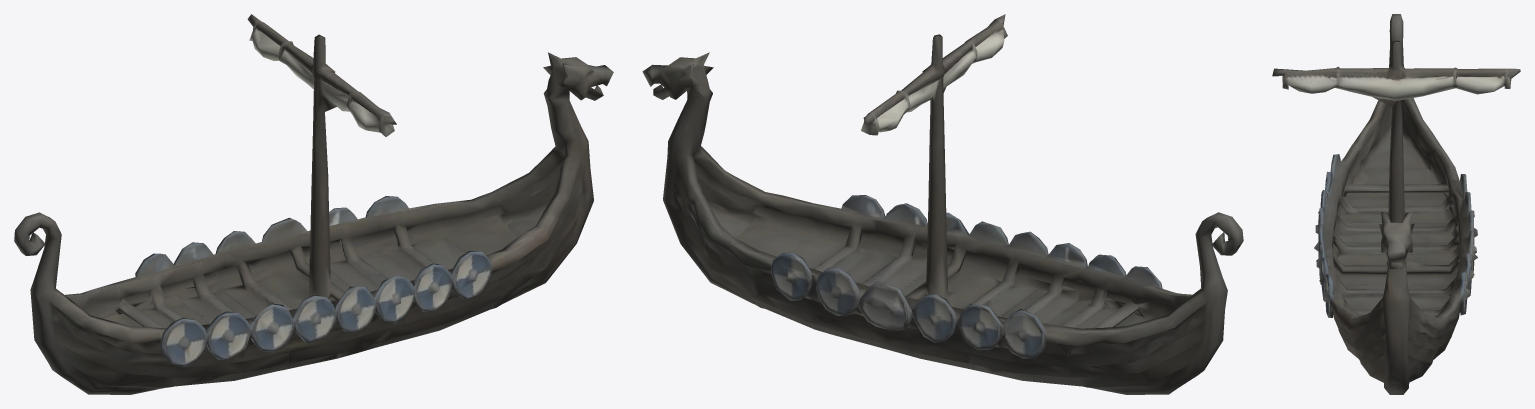
File: longship.glb
The picture shows the model from 3 angles, left to right: view 1: azimuth 30°, elevation 25°; view 2: azimuth 150°, elevation 25°; view 3: azimuth 270°, elevation 25°; orthographic projection. The views are drawn at different scales.
Parts seen in each view (by area): view 1: tripo_node_01c852ba-2863-427e-95f2-aea8173fa03a; view 2: tripo_node_01c852ba-2863-427e-95f2-aea8173fa03a; view 3: tripo_node_01c852ba-2863-427e-95f2-aea8173fa03a.
Boxes of the visible parts, bbox=[...] form: tripo_node_01c852ba-2863-427e-95f2-aea8173fa03a: bbox=[14, 14, 613, 394]; tripo_node_01c852ba-2863-427e-95f2-aea8173fa03a: bbox=[642, 14, 1243, 394]; tripo_node_01c852ba-2863-427e-95f2-aea8173fa03a: bbox=[1272, 14, 1520, 394].
Size of the model in its own units: 1 by 0.5005 by 0.4171.
Materials: 1 (1 with a texture image).
